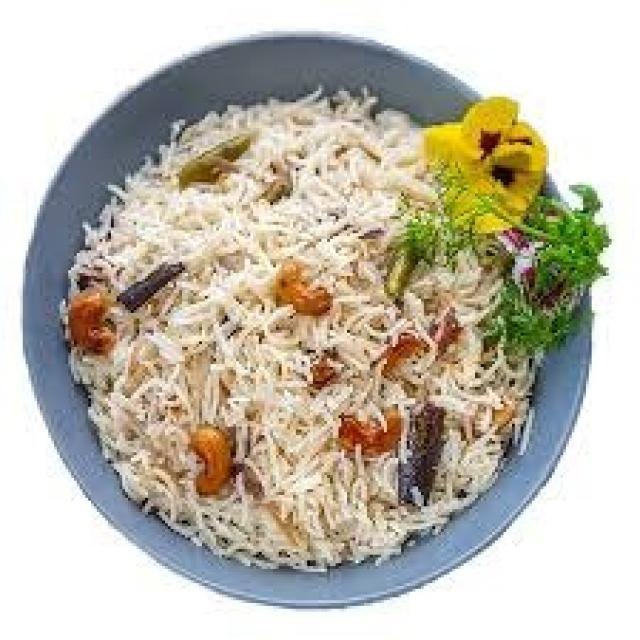nei satham: (53, 87, 510, 565)
